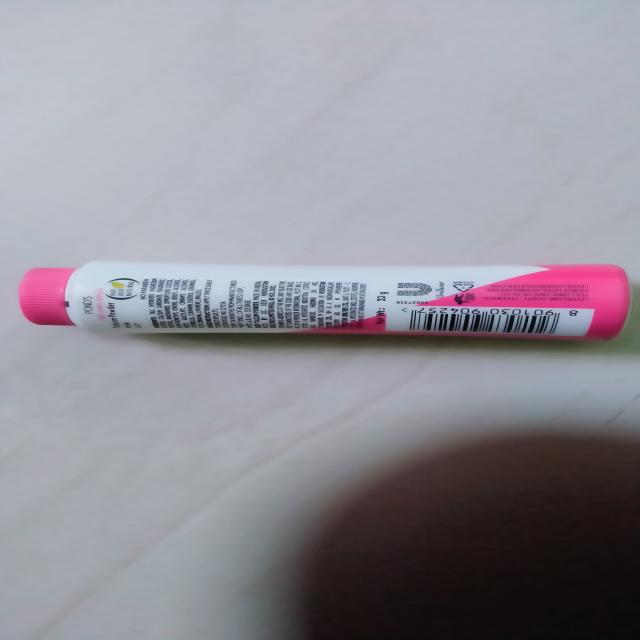powder: (14, 259, 640, 347)
